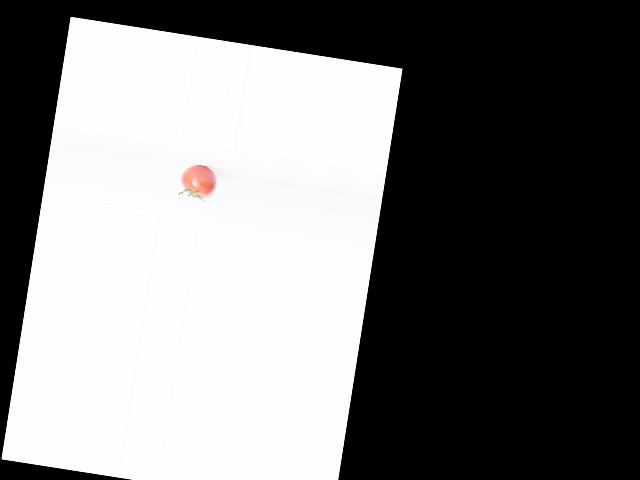tomato: (179, 162, 219, 199)
